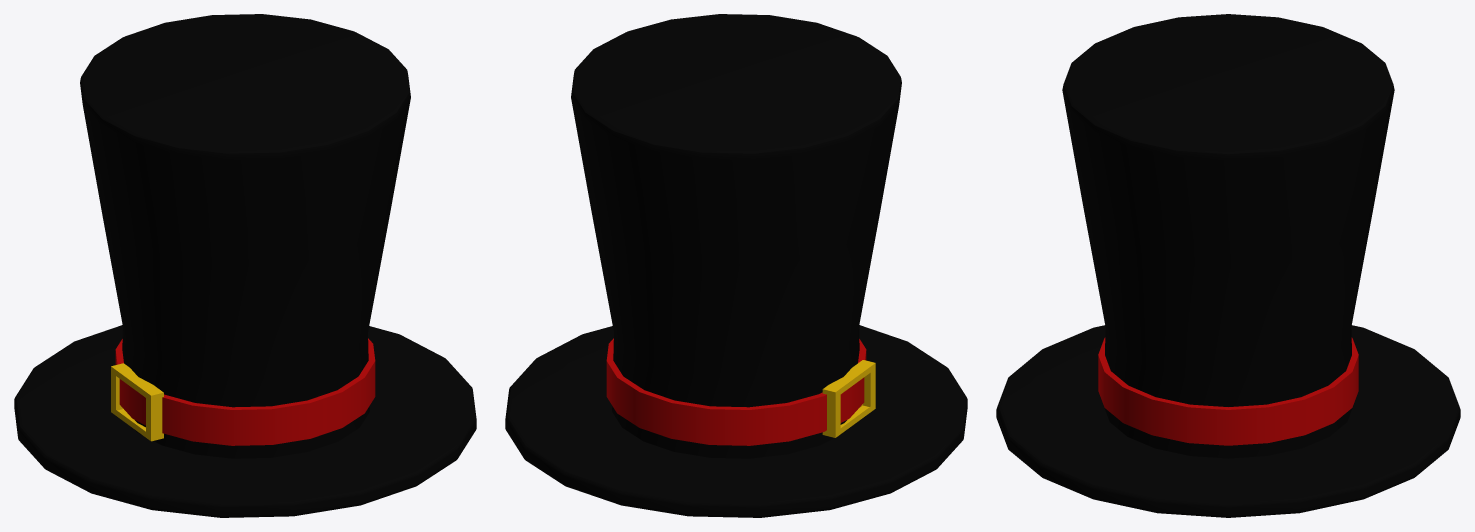
File: sombrero.fbx
3 views of the same model, side by side, from view 1: azimuth 30°, elevation 25°; view 2: azimuth 150°, elevation 25°; view 3: azimuth 270°, elevation 25° (orthographic).
Visible parts, largest first — view 1: polySurface2; view 2: polySurface2; view 3: polySurface2.
Boxes of the visible parts, x1,y1,x2,y2 form: polySurface2: [14, 14, 476, 517]; polySurface2: [505, 14, 967, 517]; polySurface2: [996, 14, 1460, 517].
Bounding box in the file's own units: 3.35 × 2.7 × 3.35.
